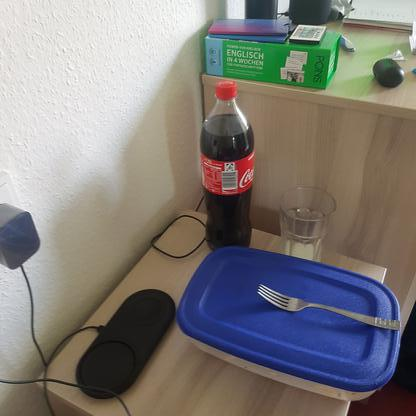coca-cola: (194, 78, 256, 251)
